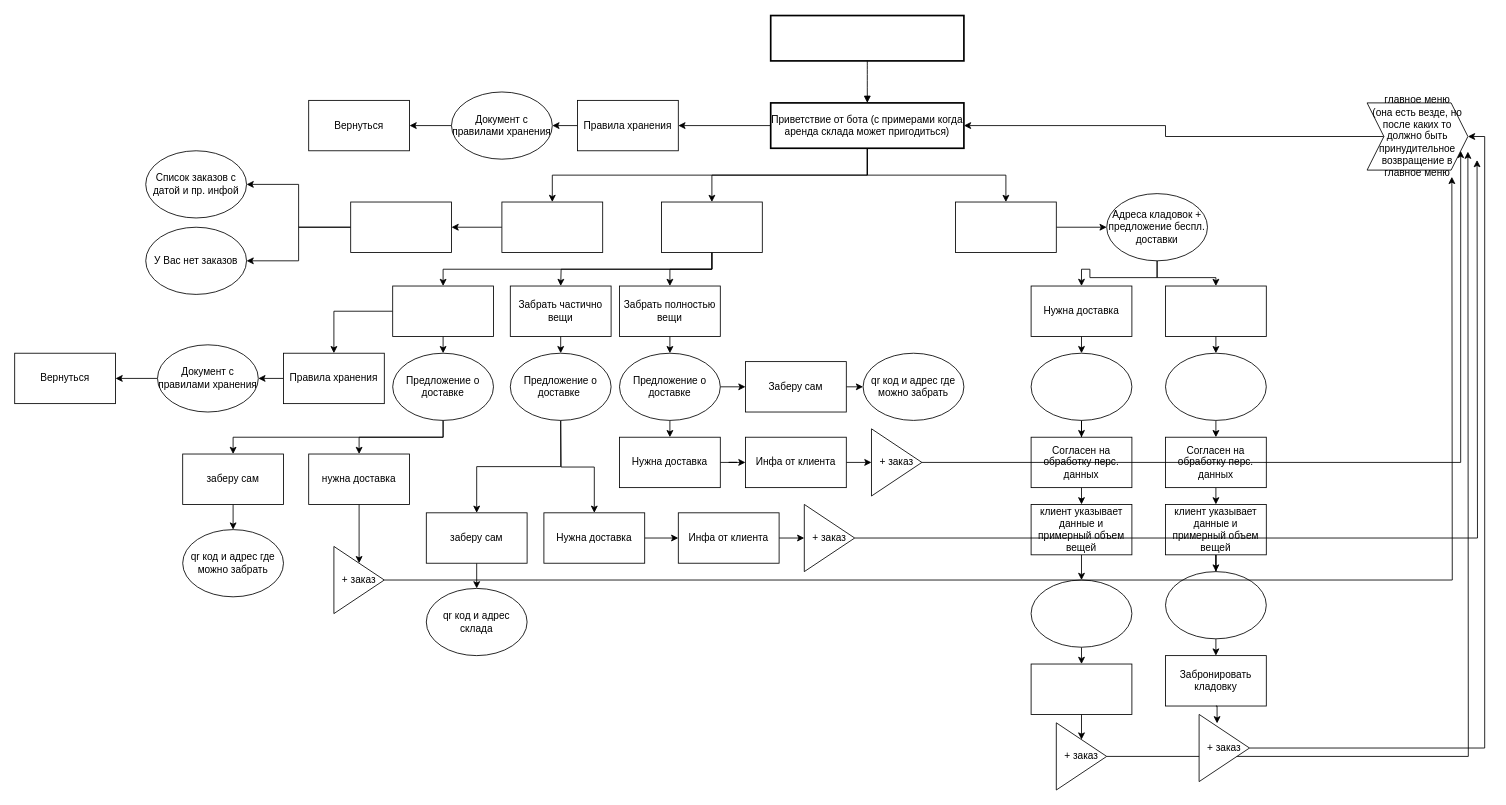
The diagram is 1506 pixels wide and 805 high, and some of its shapes have lost their labels. The shapes that lost their labels are listed below. From the top down, each one's centre as x and y in pixels, then its label:
the point at 866,37: Пользователь обращается к боту
the point at 401,226: Информация от клиента
the point at 552,226: Мои заказы
the point at 711,226: Уже храню вещи
the point at 1005,226: Хочу хранить вещи
the point at 443,310: Положить обратно в арендованную ячейку
the point at 1215,310: Привезу сам
the point at 1081,386: Инфа о доставке и необходимости согласия на обработку перс. данных
the point at 1215,386: Инфа о кладовках и необходимости согласия на обработку перс. данных
the point at 1081,613: Клиенту высвечиваются примерная цена за хранение такого объема вещей
the point at 1215,605: Клиенту высвечиваются подходящие по размеру кладовки и примерные цены на них
the point at 1081,688: Заказать доставку и хранение
